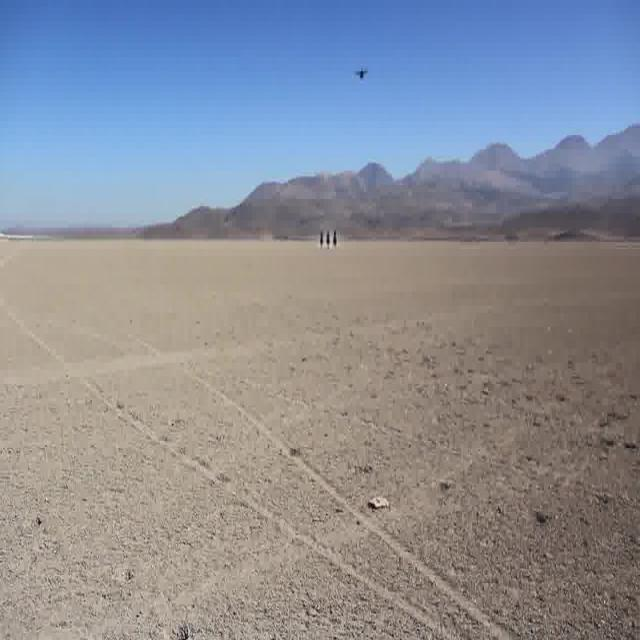drones: (350, 60, 372, 85)
